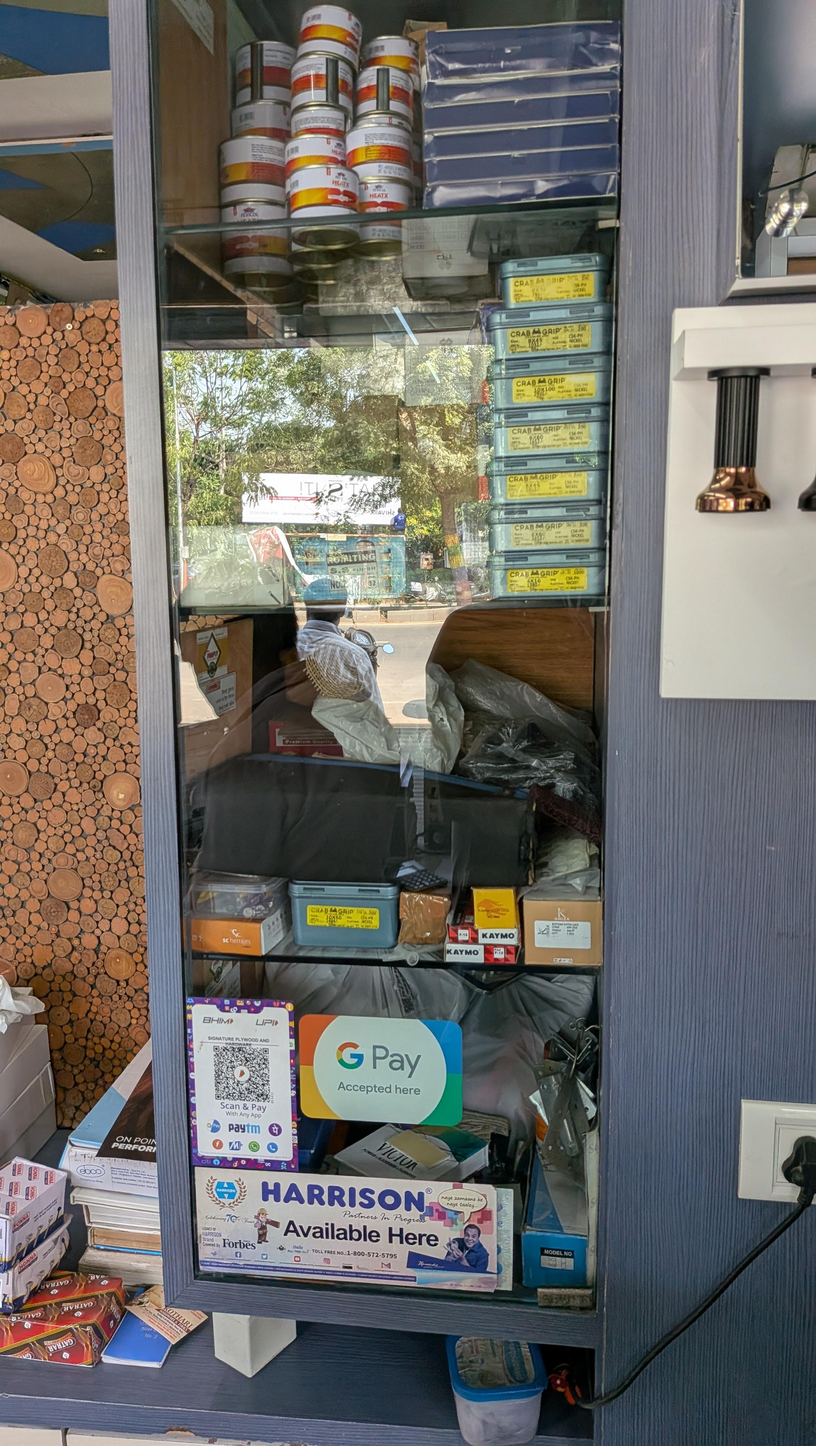Fevicol_HEATX: (221, 202, 291, 275), (220, 136, 285, 208), (289, 166, 358, 230), (297, 5, 362, 72), (292, 52, 353, 117), (235, 41, 296, 104), (356, 65, 413, 128), (350, 127, 415, 181), (285, 133, 345, 187), (362, 36, 418, 85), (232, 100, 290, 143), (292, 105, 347, 140), (358, 176, 409, 213)
